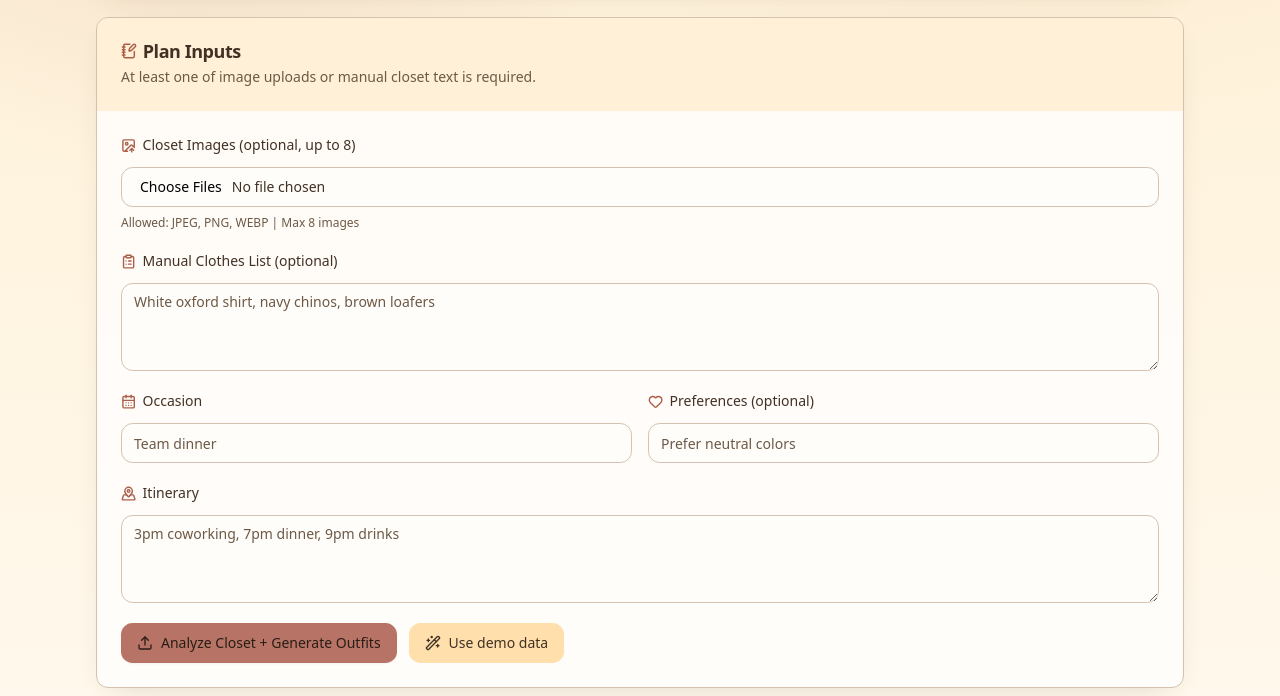
Test: App › shows validation errors when submit is missing required inputs
The image size is (1280, 696).
(page scrolled)
Click the button "Analyze Closet + Generate Outfits".
click(259, 643)  # box [121, 623, 397, 663]
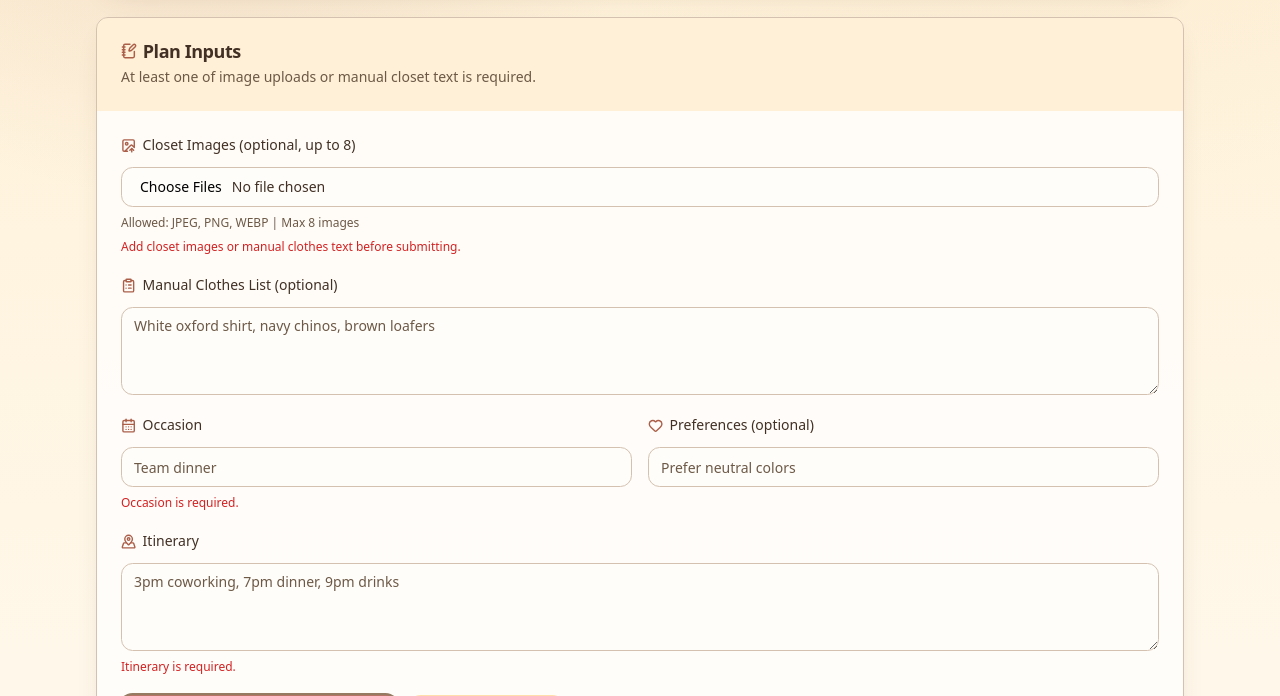
expect the text "Add closet images or manual clothes text before submitting." is shown: met, box [121, 238, 461, 255]
expect the text "Occasion is required." is shown: met, box [121, 494, 239, 511]
expect the text "Itinerary is required." is shown: met, box [121, 658, 236, 675]
